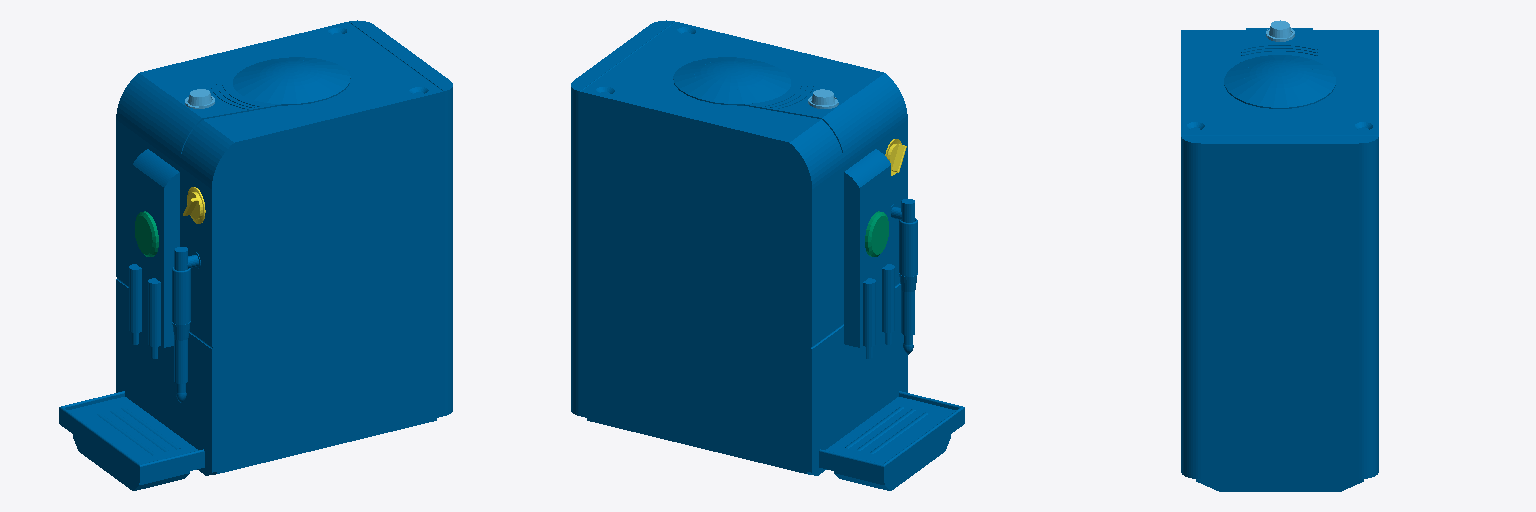
robot.urdf — partnet_67f624e483973e6340ef1c8b63a628f9:
<?xml version="1.0" ?>
<robot name="partnet_67f624e483973e6340ef1c8b63a628f9">
	<link name="base"/>
	<link name="link_0">
		<visual name="knob-1">
			<origin xyz="0.0019720000000000002 0 -0.3081235"/>
			<geometry>
				<mesh filename="textured_objs/original-9.obj"/>
			</geometry>
		</visual>
		<collision>
			<origin xyz="0.0019720000000000002 0 -0.3081235"/>
			<geometry>
				<mesh filename="textured_objs/original-9.obj"/>
			</geometry>
		</collision>
	</link>
	<joint name="joint_0" type="continuous">
		<origin xyz="-0.0019720000000000002 0 0.3081235"/>
		<axis xyz="0 1 0"/>
		<child link="link_0"/>
		<parent link="link_3"/>
	</joint>
	<link name="link_1">
		<visual name="button-3">
			<origin xyz="0 0 0"/>
			<geometry>
				<mesh filename="textured_objs/original-6.obj"/>
			</geometry>
		</visual>
		<collision>
			<origin xyz="0 0 0"/>
			<geometry>
				<mesh filename="textured_objs/original-6.obj"/>
			</geometry>
		</collision>
	</link>
	<joint name="joint_1" type="prismatic">
		<origin xyz="0 0 0"/>
		<axis xyz="0 0 -1"/>
		<child link="link_1"/>
		<parent link="link_3"/>
		<limit lower="0" upper="0.01"/>
	</joint>
	<link name="link_2">
		<visual name="knob-4">
			<origin xyz="-0.244377 -0.4427535 0"/>
			<geometry>
				<mesh filename="textured_objs/original-15.obj"/>
			</geometry>
		</visual>
		<collision>
			<origin xyz="-0.244377 -0.4427535 0"/>
			<geometry>
				<mesh filename="textured_objs/original-15.obj"/>
			</geometry>
		</collision>
	</link>
	<joint name="joint_2" type="continuous">
		<origin xyz="0.244377 0.4427535 0"/>
		<axis xyz="0 0 1"/>
		<child link="link_2"/>
		<parent link="link_3"/>
	</joint>
	<link name="link_3">
		<visual name="lid-2">
			<origin xyz="0 0 0"/>
			<geometry>
				<mesh filename="textured_objs/original-1.obj"/>
			</geometry>
		</visual>
		<visual name="lid-2">
			<origin xyz="0 0 0"/>
			<geometry>
				<mesh filename="textured_objs/original-10.obj"/>
			</geometry>
		</visual>
		<visual name="lid-2">
			<origin xyz="0 0 0"/>
			<geometry>
				<mesh filename="textured_objs/original-11.obj"/>
			</geometry>
		</visual>
		<visual name="lid-2">
			<origin xyz="0 0 0"/>
			<geometry>
				<mesh filename="textured_objs/original-12.obj"/>
			</geometry>
		</visual>
		<visual name="lid-2">
			<origin xyz="0 0 0"/>
			<geometry>
				<mesh filename="textured_objs/original-13.obj"/>
			</geometry>
		</visual>
		<visual name="base_body-5">
			<origin xyz="0 0 0"/>
			<geometry>
				<mesh filename="textured_objs/original-22.obj"/>
			</geometry>
		</visual>
		<visual name="base_body-5">
			<origin xyz="0 0 0"/>
			<geometry>
				<mesh filename="textured_objs/original-4.obj"/>
			</geometry>
		</visual>
		<visual name="base_body-5">
			<origin xyz="0 0 0"/>
			<geometry>
				<mesh filename="textured_objs/original-5.obj"/>
			</geometry>
		</visual>
		<visual name="base_body-5">
			<origin xyz="0 0 0"/>
			<geometry>
				<mesh filename="textured_objs/original-23.obj"/>
			</geometry>
		</visual>
		<visual name="base_body-5">
			<origin xyz="0 0 0"/>
			<geometry>
				<mesh filename="textured_objs/original-18.obj"/>
			</geometry>
		</visual>
		<visual name="base_body-5">
			<origin xyz="0 0 0"/>
			<geometry>
				<mesh filename="textured_objs/original-25.obj"/>
			</geometry>
		</visual>
		<visual name="base_body-5">
			<origin xyz="0 0 0"/>
			<geometry>
				<mesh filename="textured_objs/original-17.obj"/>
			</geometry>
		</visual>
		<visual name="base_body-5">
			<origin xyz="0 0 0"/>
			<geometry>
				<mesh filename="textured_objs/original-24.obj"/>
			</geometry>
		</visual>
		<visual name="base_body-5">
			<origin xyz="0 0 0"/>
			<geometry>
				<mesh filename="textured_objs/original-20.obj"/>
			</geometry>
		</visual>
		<visual name="base_body-5">
			<origin xyz="0 0 0"/>
			<geometry>
				<mesh filename="textured_objs/original-7.obj"/>
			</geometry>
		</visual>
		<visual name="base_body-5">
			<origin xyz="0 0 0"/>
			<geometry>
				<mesh filename="textured_objs/original-14.obj"/>
			</geometry>
		</visual>
		<visual name="base_body-5">
			<origin xyz="0 0 0"/>
			<geometry>
				<mesh filename="textured_objs/original-19.obj"/>
			</geometry>
		</visual>
		<collision>
			<origin xyz="0 0 0"/>
			<geometry>
				<mesh filename="textured_objs/original-1.obj"/>
			</geometry>
		</collision>
		<collision>
			<origin xyz="0 0 0"/>
			<geometry>
				<mesh filename="textured_objs/original-10.obj"/>
			</geometry>
		</collision>
		<collision>
			<origin xyz="0 0 0"/>
			<geometry>
				<mesh filename="textured_objs/original-11.obj"/>
			</geometry>
		</collision>
		<collision>
			<origin xyz="0 0 0"/>
			<geometry>
				<mesh filename="textured_objs/original-12.obj"/>
			</geometry>
		</collision>
		<collision>
			<origin xyz="0 0 0"/>
			<geometry>
				<mesh filename="textured_objs/original-13.obj"/>
			</geometry>
		</collision>
		<collision>
			<origin xyz="0 0 0"/>
			<geometry>
				<mesh filename="textured_objs/original-22.obj"/>
			</geometry>
		</collision>
		<collision>
			<origin xyz="0 0 0"/>
			<geometry>
				<mesh filename="textured_objs/original-4.obj"/>
			</geometry>
		</collision>
		<collision>
			<origin xyz="0 0 0"/>
			<geometry>
				<mesh filename="textured_objs/original-5.obj"/>
			</geometry>
		</collision>
		<collision>
			<origin xyz="0 0 0"/>
			<geometry>
				<mesh filename="textured_objs/original-23.obj"/>
			</geometry>
		</collision>
		<collision>
			<origin xyz="0 0 0"/>
			<geometry>
				<mesh filename="textured_objs/original-18.obj"/>
			</geometry>
		</collision>
		<collision>
			<origin xyz="0 0 0"/>
			<geometry>
				<mesh filename="textured_objs/original-25.obj"/>
			</geometry>
		</collision>
		<collision>
			<origin xyz="0 0 0"/>
			<geometry>
				<mesh filename="textured_objs/original-17.obj"/>
			</geometry>
		</collision>
		<collision>
			<origin xyz="0 0 0"/>
			<geometry>
				<mesh filename="textured_objs/original-24.obj"/>
			</geometry>
		</collision>
		<collision>
			<origin xyz="0 0 0"/>
			<geometry>
				<mesh filename="textured_objs/original-20.obj"/>
			</geometry>
		</collision>
		<collision>
			<origin xyz="0 0 0"/>
			<geometry>
				<mesh filename="textured_objs/original-7.obj"/>
			</geometry>
		</collision>
		<collision>
			<origin xyz="0 0 0"/>
			<geometry>
				<mesh filename="textured_objs/original-14.obj"/>
			</geometry>
		</collision>
		<collision>
			<origin xyz="0 0 0"/>
			<geometry>
				<mesh filename="textured_objs/original-19.obj"/>
			</geometry>
		</collision>
	</link>
	<joint name="joint_3" type="fixed">
		<origin rpy="1.570796326794897 0 -1.570796326794897" xyz="0 0 0"/>
		<child link="link_3"/>
		<parent link="base"/>
	</joint>
</robot>

--- Render facts (derived) ---
The picture shows the robot from 3 angles, left to right: view 1: azimuth 30°, elevation 25°; view 2: azimuth 150°, elevation 25°; view 3: azimuth 270°, elevation 25°; orthographic projection.
Robot: partnet_67f624e483973e6340ef1c8b63a628f9 — 5 links, 4 joints (2 continuous, 1 prismatic, 1 fixed); root link base; default pose: all joints at 0.
Visible links, largest first — view 1: link_3, link_1, link_2; view 2: link_3, link_1; view 3: link_3.
Link boxes in pixels (box(x1,y1,x2,y2)): link_3: box(59, 20, 452, 490); link_1: box(135, 211, 158, 256); link_2: box(183, 187, 205, 223); link_3: box(571, 20, 964, 490); link_1: box(865, 211, 888, 256); link_3: box(1181, 28, 1378, 491).
Size in the robot's own frame: 1.34 by 0.7107 by 1.46 metres.
20 mesh visuals loaded from 20 distinct referenced files (20 OBJ).
